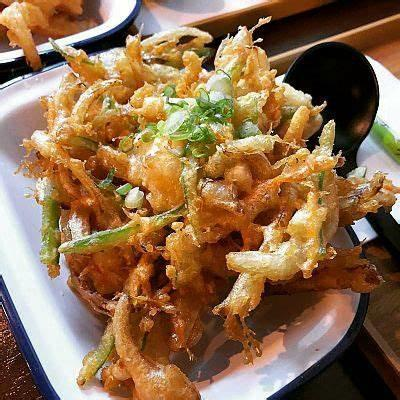OnionPakoda: (28, 17, 400, 400), (0, 0, 98, 69)
